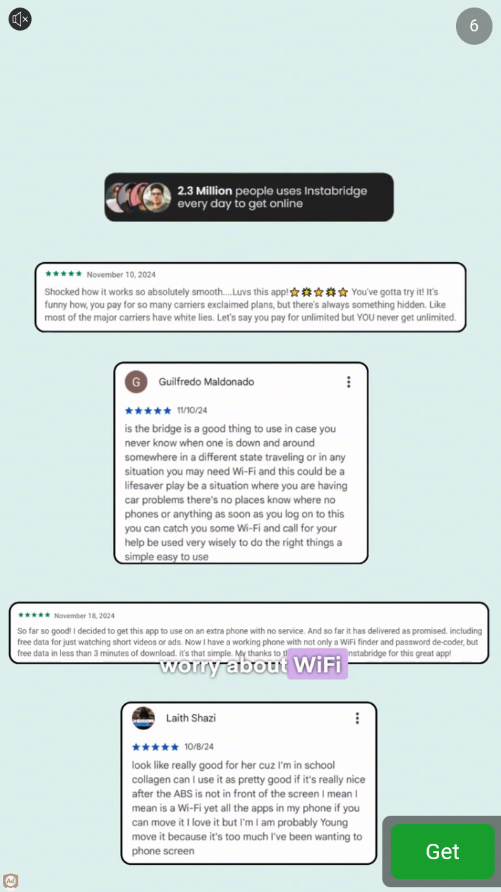glosnik: (8, 4, 34, 35)
